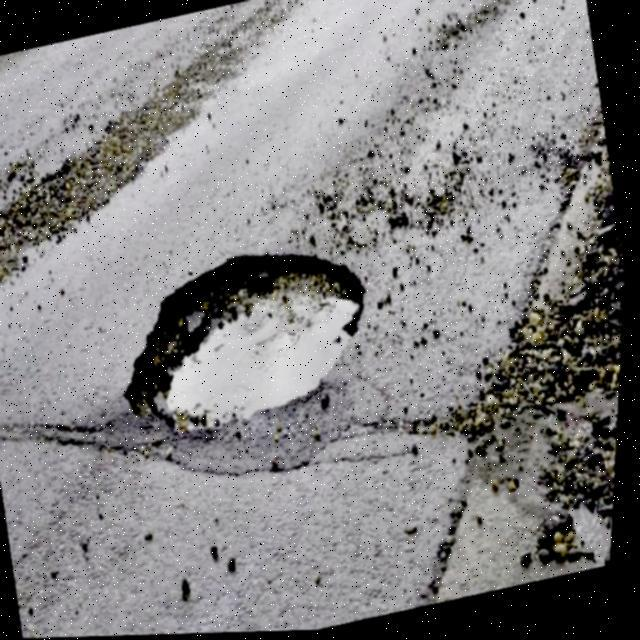pothole: (99, 222, 398, 456)
